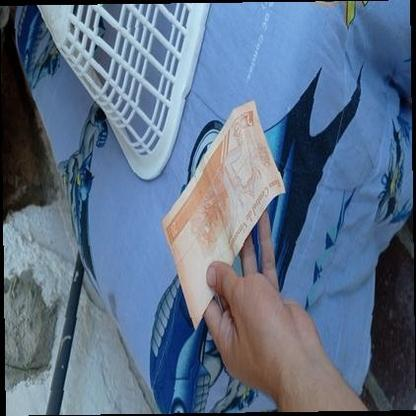twenty-back-vef: (160, 98, 288, 330)
